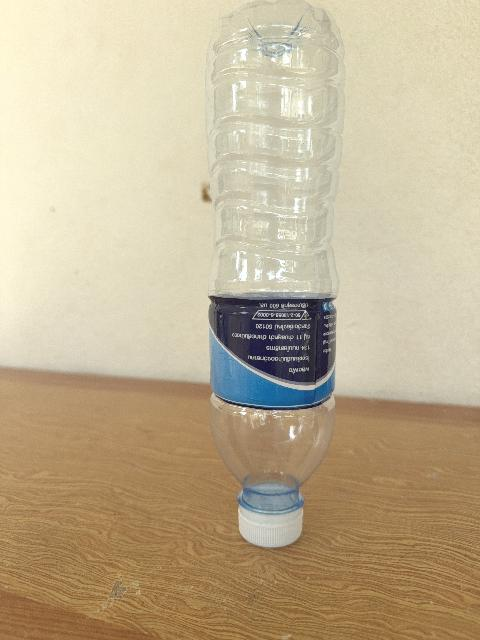bottle: (207, 0, 344, 546)
